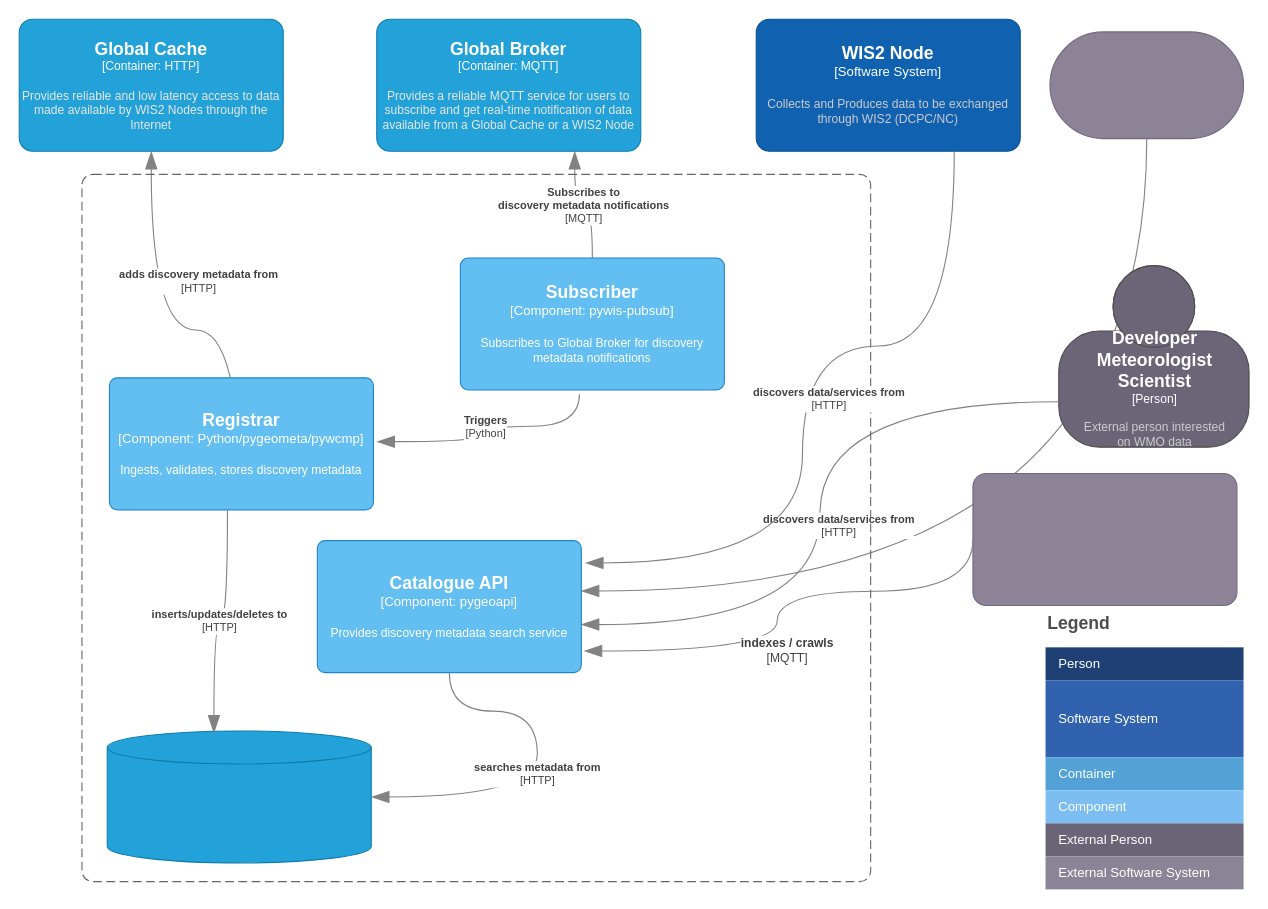
Some shapes in this 1268 by 909 pixel diagram are drawn without their labels. The shapes that lost their labels are listed below. From the top down, each one's box as (x1, y1, x2, y2) in pixels, then its label:
(1049, 31, 1244, 139): Data consumer [Software System] User of data or products
(81, 173, 871, 882): Global Discovery Catalogue [Container]
(972, 472, 1237, 606): Search Engines [Software System] Description of external software system.
(106, 730, 371, 863): Metadata backend [Container : Elasticsearch] Provides indexing and discovery
